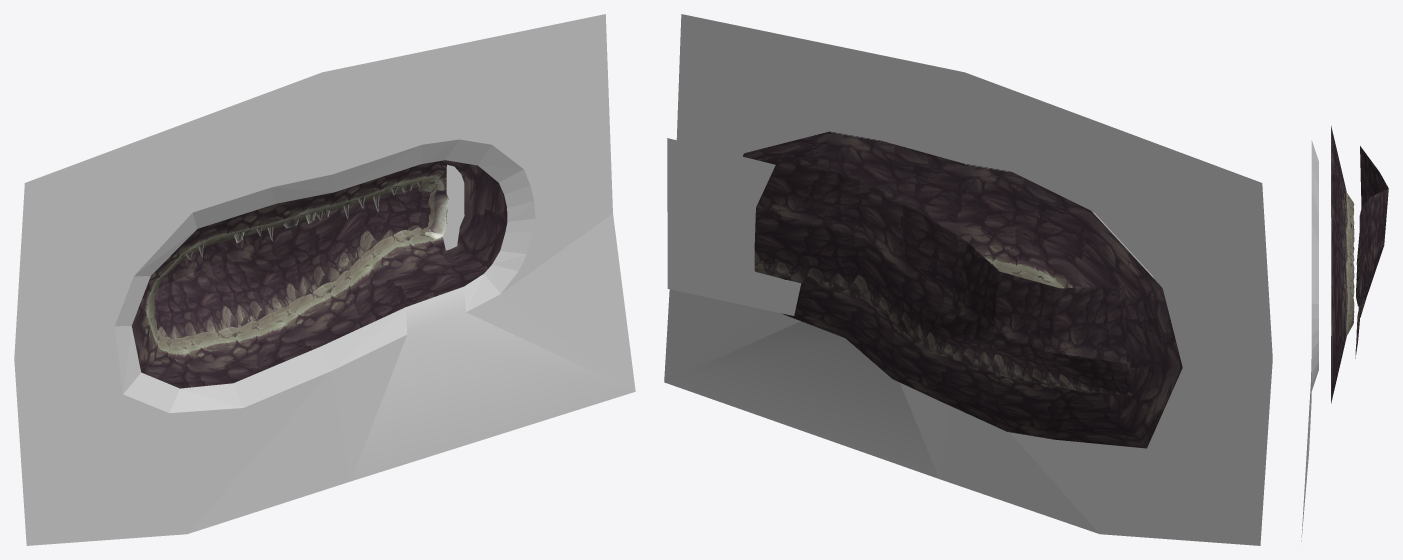
The model's file is LVL 2 Cave.FBX.
3 renders of one model, left to right at view 1: azimuth 30°, elevation 25°; view 2: azimuth 150°, elevation 25°; view 3: azimuth 270°, elevation 25°, orthographic. The views are drawn at different scales.
Parts seen in each view (by area): view 1: LVL 2 Black Cave, LVL 2 Cave, Lvl 2 Cave Int Mask, LVL 2 Stalactites; view 2: LVL 2 Black Cave, LVL 2 Cave, Lvl 2 Cave Int Mask; view 3: LVL 2 Cave, LVL 2 Black Cave.
Part boxes in pixels (x1,y1,x2,y2): LVL 2 Black Cave: (14, 14, 635, 545); LVL 2 Cave: (132, 160, 507, 388); Lvl 2 Cave Int Mask: (443, 164, 464, 250); LVL 2 Stalactites: (186, 181, 423, 260); LVL 2 Black Cave: (664, 14, 1272, 545); LVL 2 Cave: (743, 131, 1182, 448); Lvl 2 Cave Int Mask: (667, 138, 801, 315); LVL 2 Cave: (1331, 125, 1388, 403); LVL 2 Black Cave: (1301, 140, 1318, 541).
Bounding box in the file's own units: 3999 × 600 × 2665.
